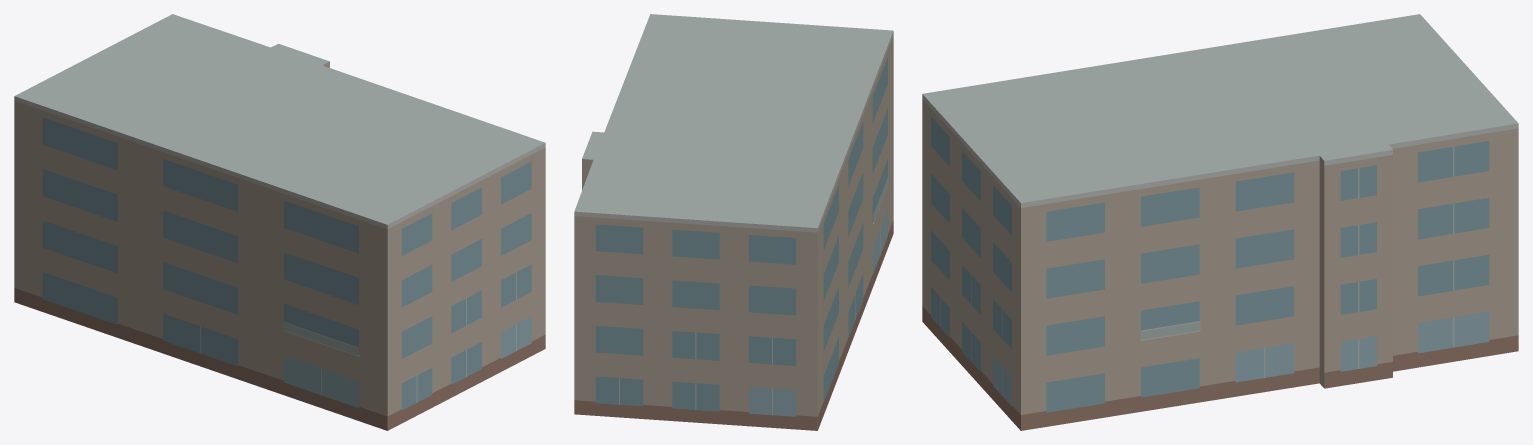
The model's file is survey-upis-32863554.glb.
3 views of the same model, side by side, from view 1: azimuth 30°, elevation 25°; view 2: azimuth 150°, elevation 25°; view 3: azimuth 270°, elevation 25° (orthographic). The views are drawn at different scales.
Parts seen in each view (by area): view 1: survey-upis-32863554.tmp; view 2: survey-upis-32863554.tmp; view 3: survey-upis-32863554.tmp.
Part boxes in pixels (x1,y1,x2,y2): survey-upis-32863554.tmp: (14, 14, 545, 430); survey-upis-32863554.tmp: (574, 14, 893, 430); survey-upis-32863554.tmp: (922, 14, 1518, 430).
Size of the model in its own units: 19.96 by 11.2 by 26.59.
